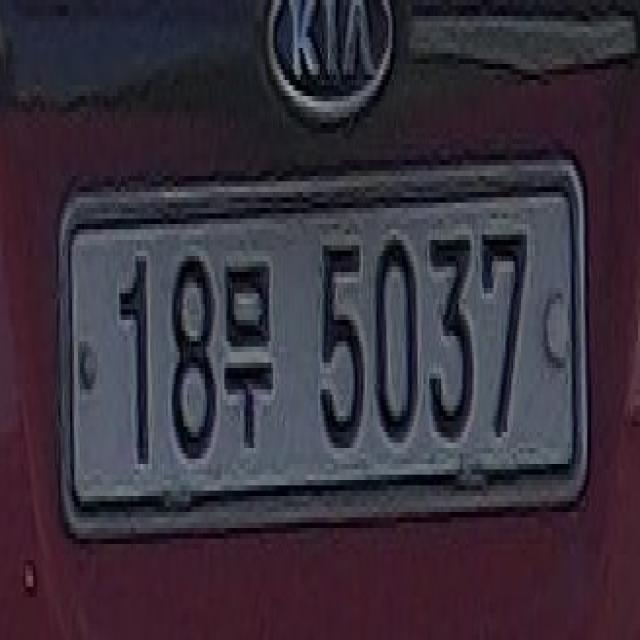plat: (54, 149, 590, 538)
